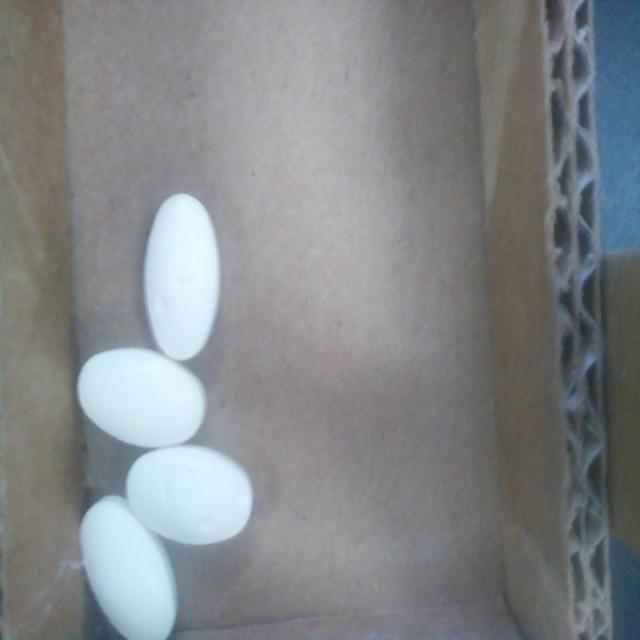pill: (80, 495, 178, 640), (77, 348, 206, 448), (144, 194, 220, 360), (126, 445, 252, 544)
